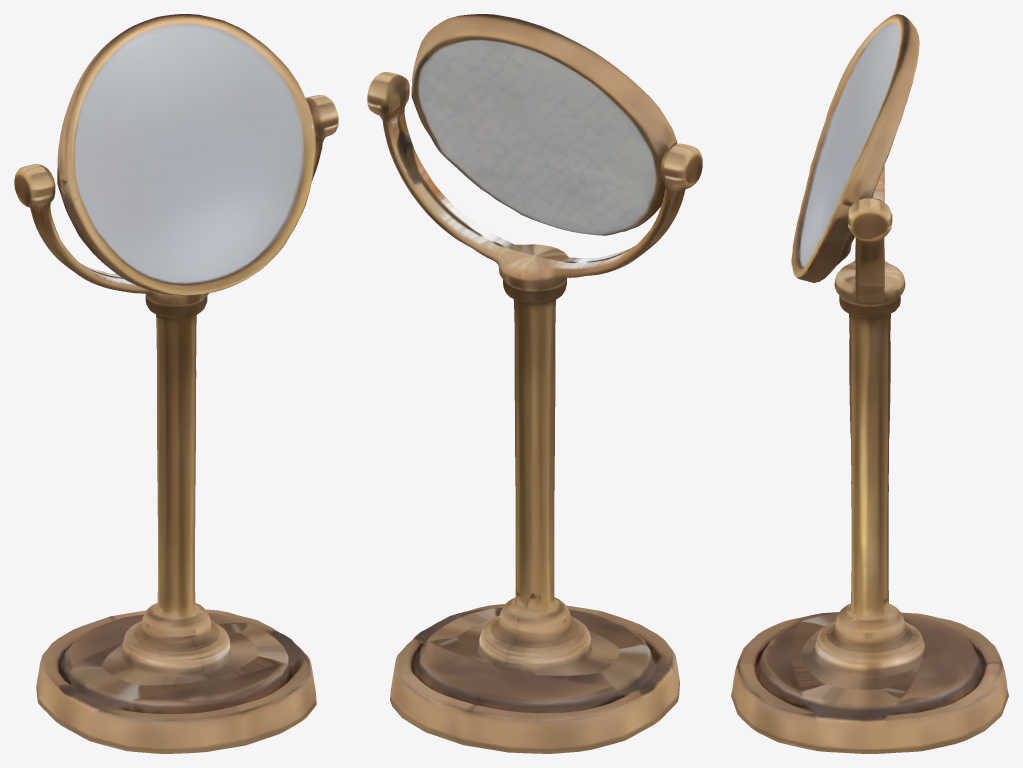
File: base_basic_shaded.fbx
3 views of the same model, side by side, from view 1: azimuth 30°, elevation 25°; view 2: azimuth 150°, elevation 25°; view 3: azimuth 270°, elevation 25° (orthographic). The views are drawn at different scales.
Parts seen in each view (by area): view 1: model; view 2: model; view 3: model.
Boxes of the visible parts, x1,y1,x2,y2 form: model: [14, 14, 338, 753]; model: [367, 14, 702, 753]; model: [731, 14, 1008, 753].
Bounding box in the file's own units: 84.68 × 175 × 65.82.
